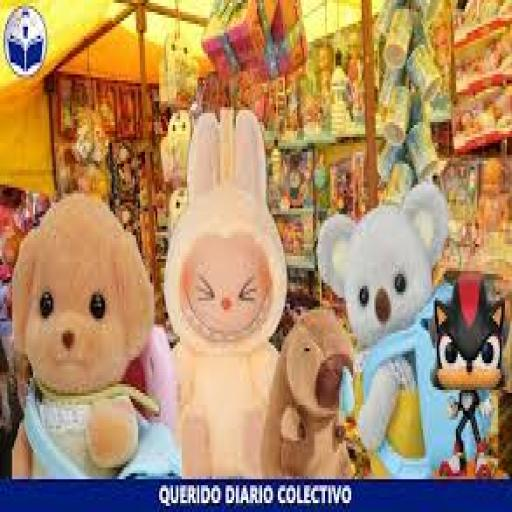labubu: (176, 106, 286, 435)
